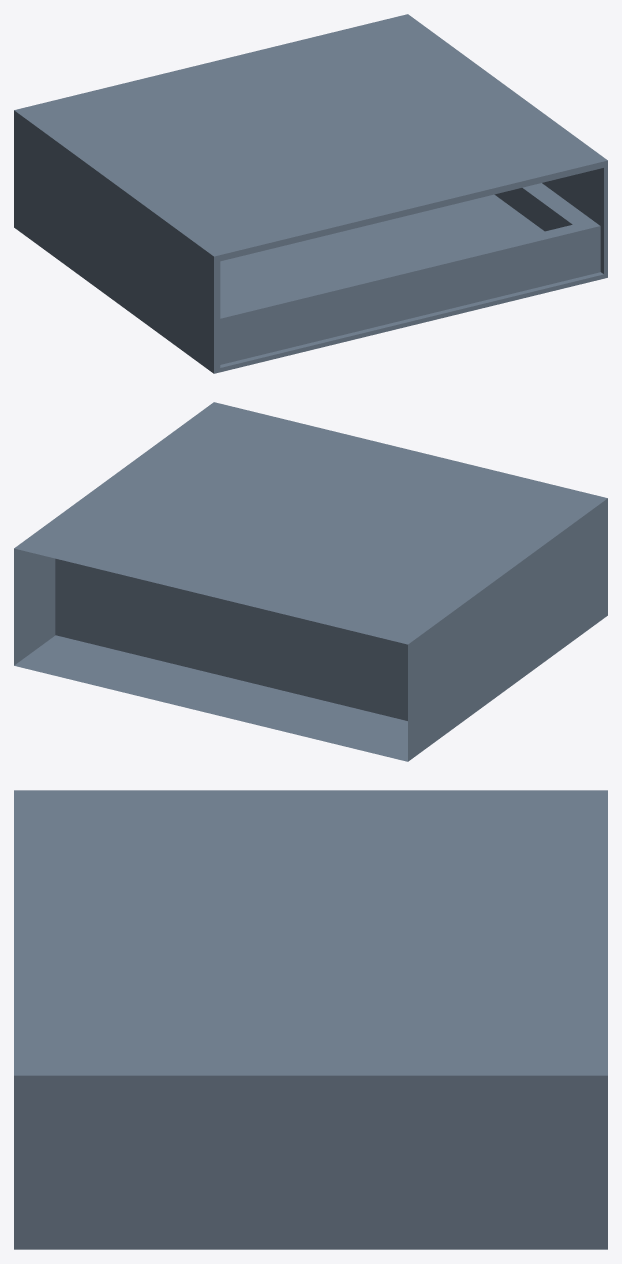
Rendered from original-2_1.obj.
3 views of the same model, one above another, from view 1: azimuth 30°, elevation 25°; view 2: azimuth 150°, elevation 25°; view 3: azimuth 270°, elevation 25° (orthographic). The views are drawn at different scales.
Size of the model in its own units: 0.2517 by 0.0716 by 0.2213.
